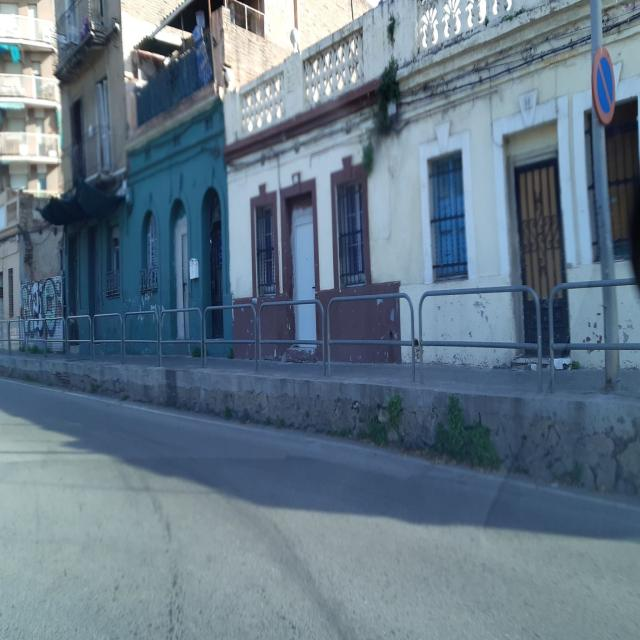forb_stopping: (590, 43, 616, 119)
